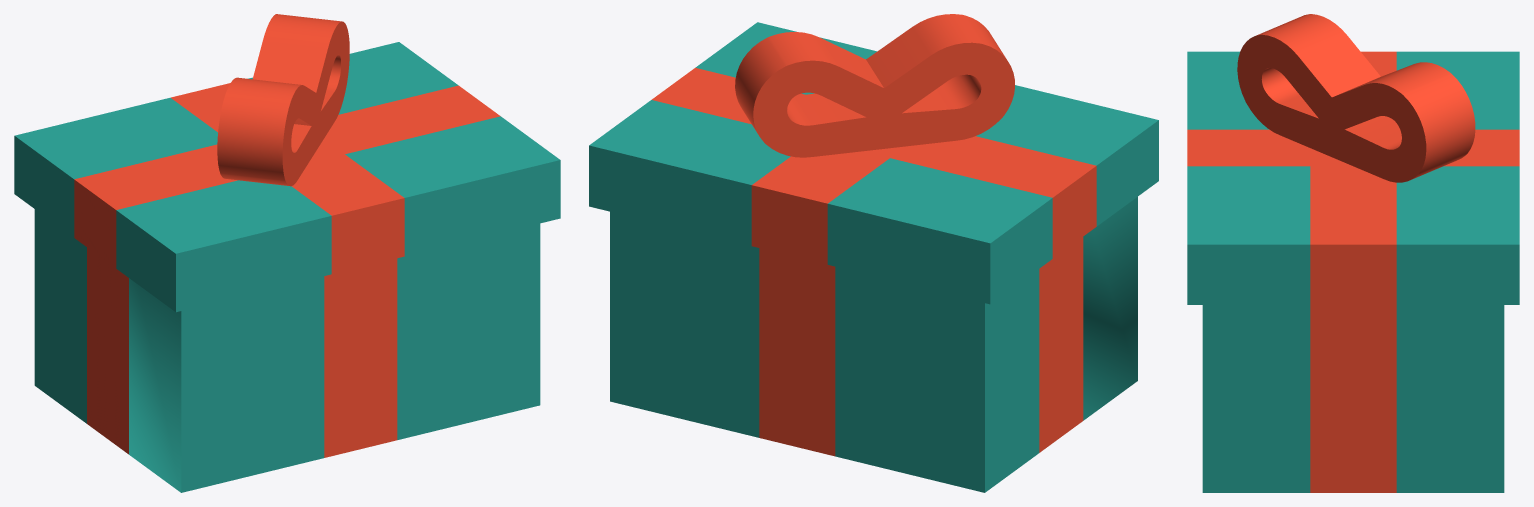
The model's file is presentGreenLow.fbx.
The picture shows the model from 3 angles, left to right: view 1: azimuth 30°, elevation 25°; view 2: azimuth 150°, elevation 25°; view 3: azimuth 270°, elevation 25°; orthographic projection. The views are drawn at different scales.
Parts seen in each view (by area): view 1: lid, presentGreenLow; view 2: lid, presentGreenLow; view 3: lid, presentGreenLow.
Part boxes in pixels (x1,y1,x2,y2): lid: [14, 14, 560, 312]; presentGreenLow: [34, 209, 540, 492]; lid: [589, 14, 1158, 304]; presentGreenLow: [610, 197, 1137, 492]; lid: [1187, 14, 1519, 304]; presentGreenLow: [1202, 305, 1504, 492].
Size of the model in its own units: 5.13 by 4.34 by 3.73.
